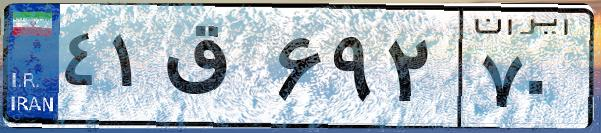0: (525, 38, 570, 115)
1: (110, 28, 158, 98)
2: (385, 28, 445, 110)
4: (57, 26, 110, 100)
6: (270, 28, 330, 110)
7: (475, 38, 525, 113)
9: (330, 28, 385, 110)
ق: (158, 20, 270, 120)
